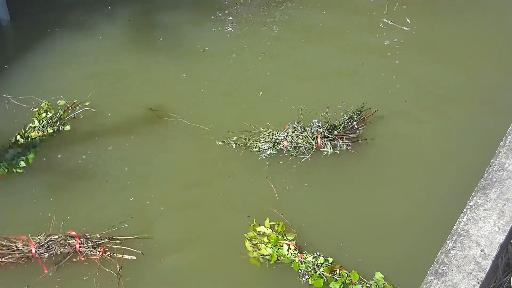twig: (240, 214, 413, 288), (0, 213, 159, 270), (230, 108, 382, 165), (0, 96, 97, 183)
